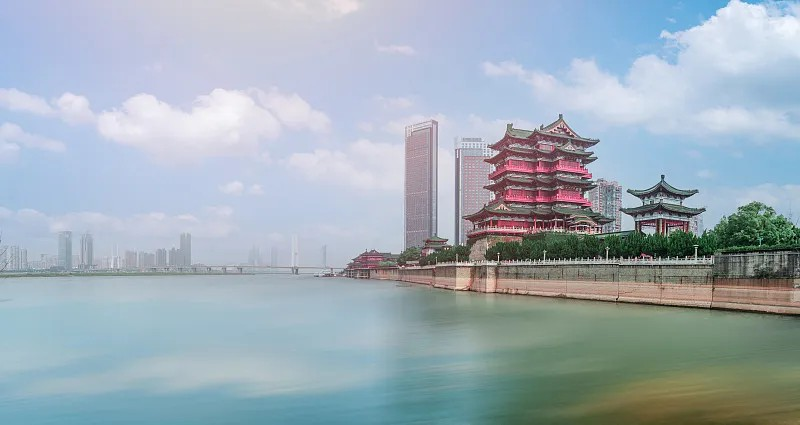Teng: (463, 113, 616, 236)
